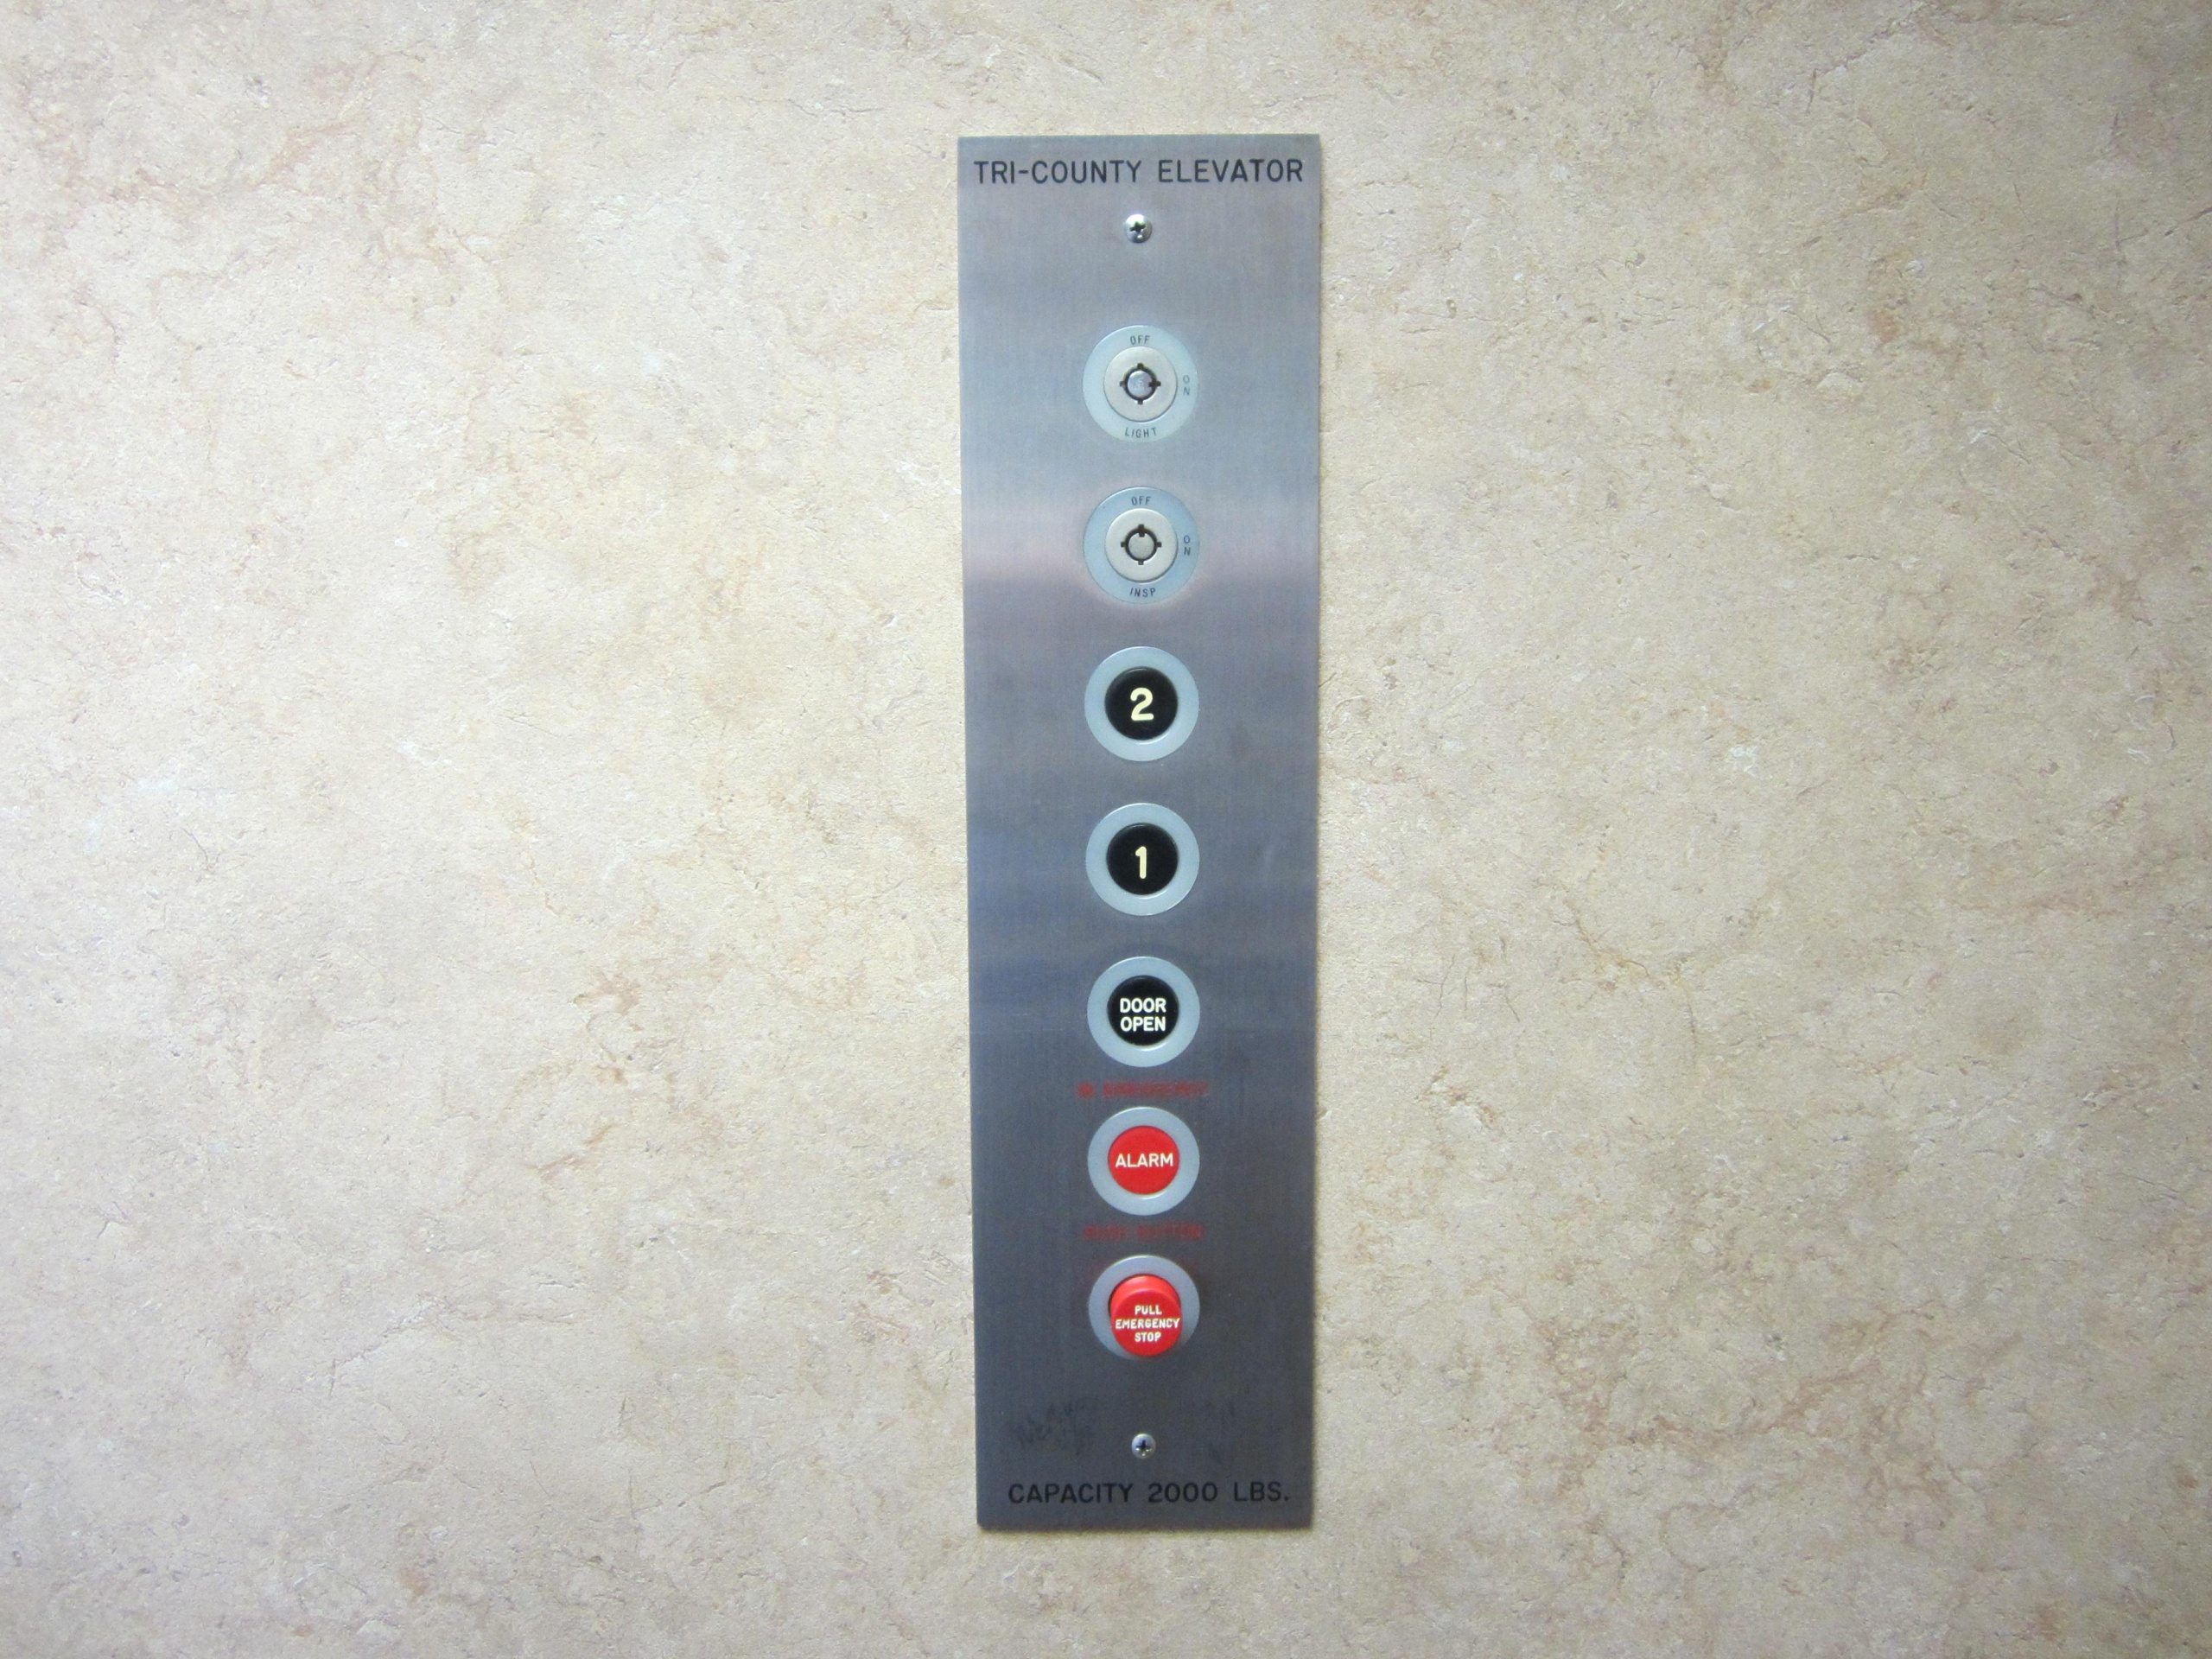1: (1085, 803, 1200, 917)
2: (1083, 645, 1200, 760)
bt_keyhole: (1083, 486, 1202, 605), (1082, 324, 1198, 443)
text_alarm: (1087, 1107, 1200, 1216)
text_emergency: (1087, 1255, 1202, 1361)
text_open: (1085, 957, 1202, 1068)
